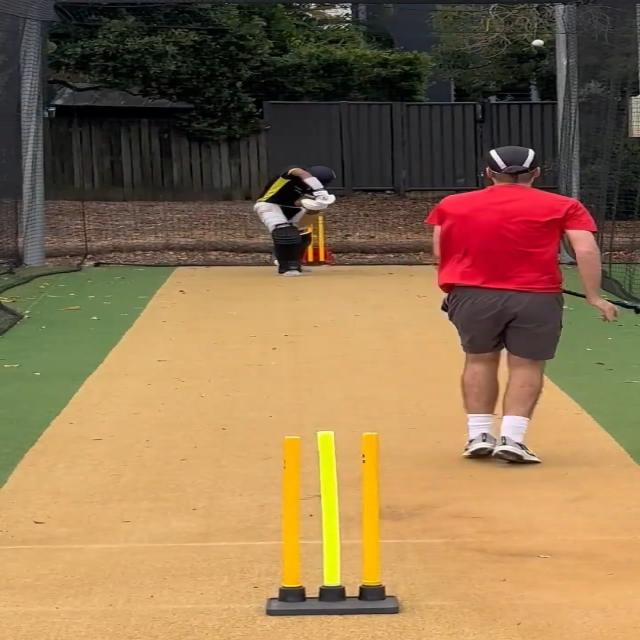stump: (263, 429, 401, 616)
